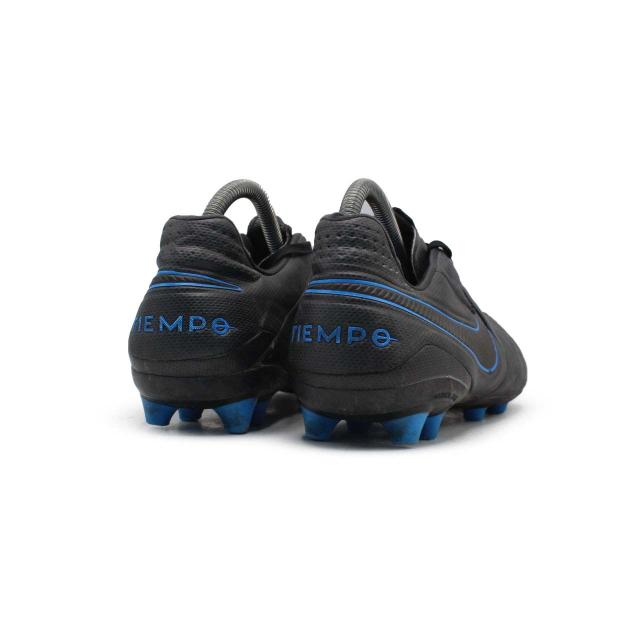heel: (130, 216, 292, 359), (291, 213, 422, 377)
midsole: (295, 343, 506, 442), (130, 354, 294, 433)
